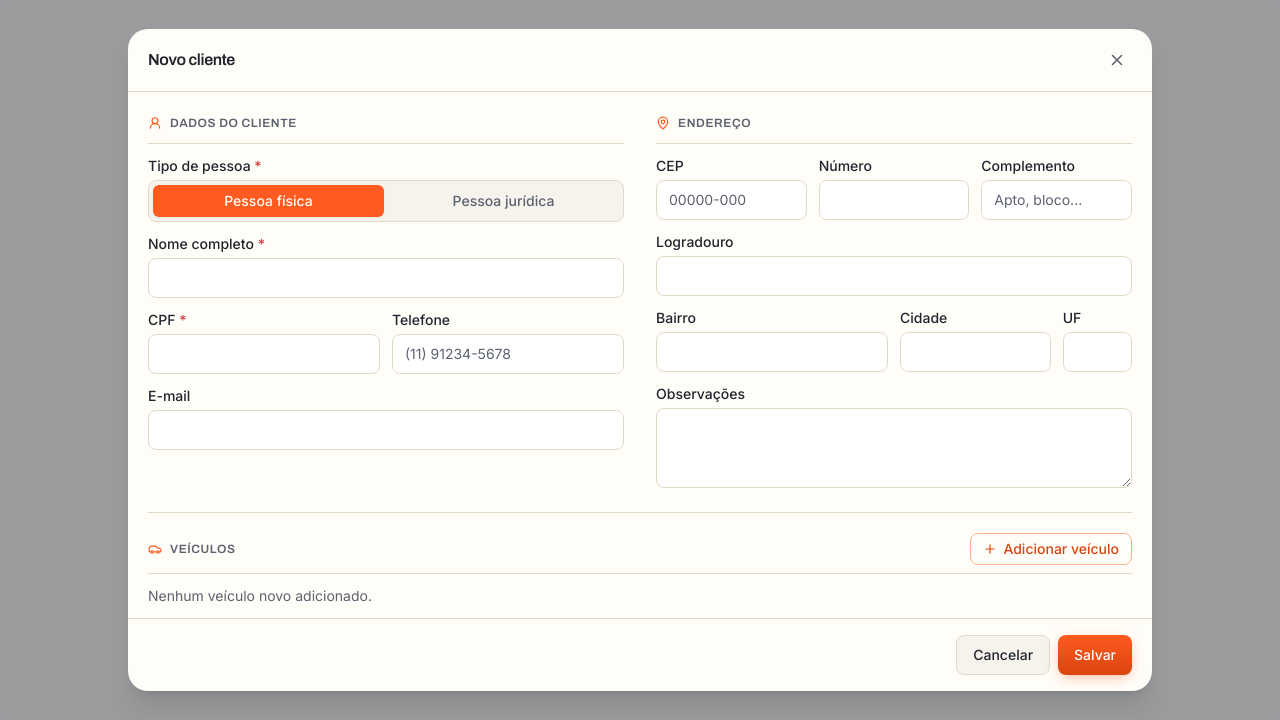
Test: ClienteFormModal › requires a nome before saving
What coordinates should you click on to do the following:
click the button "Salvar"
I would click on:
 (1095, 655)
Its box is x1=1058 y1=635 x2=1132 y2=675.
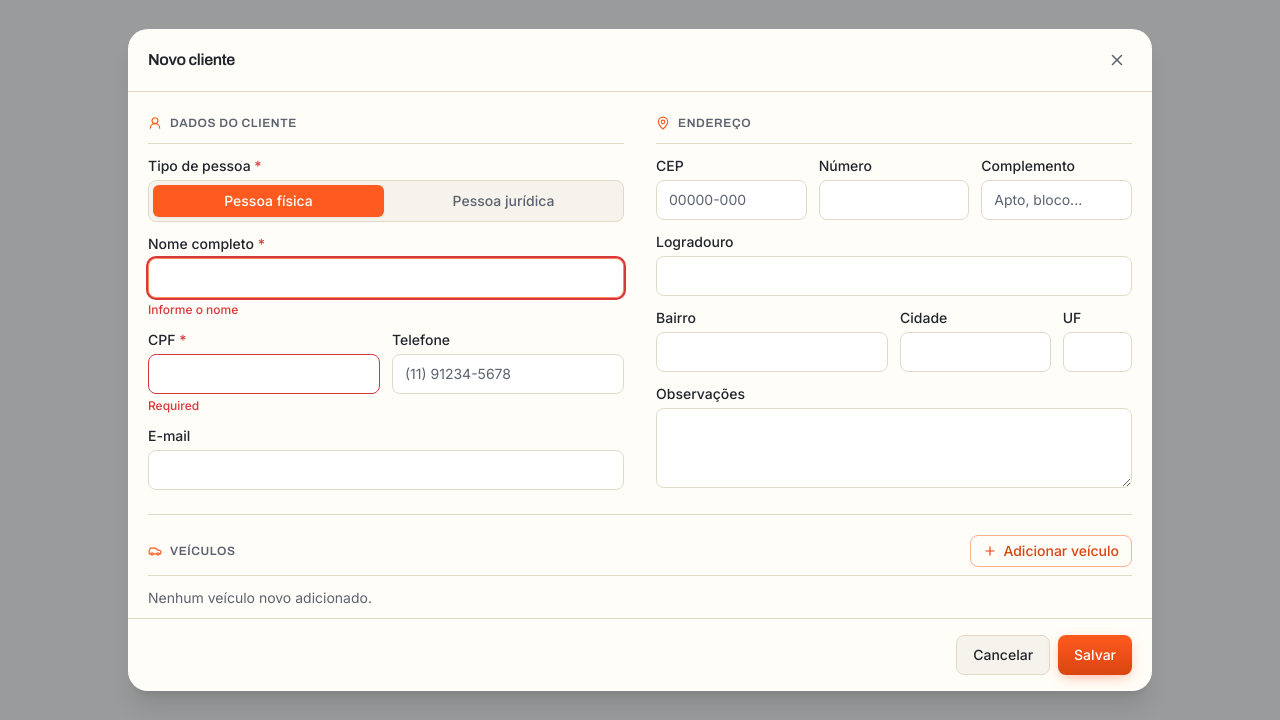
Expected: the text "Informe o nome" is shown, x1=148 y1=302 x2=238 y2=317
